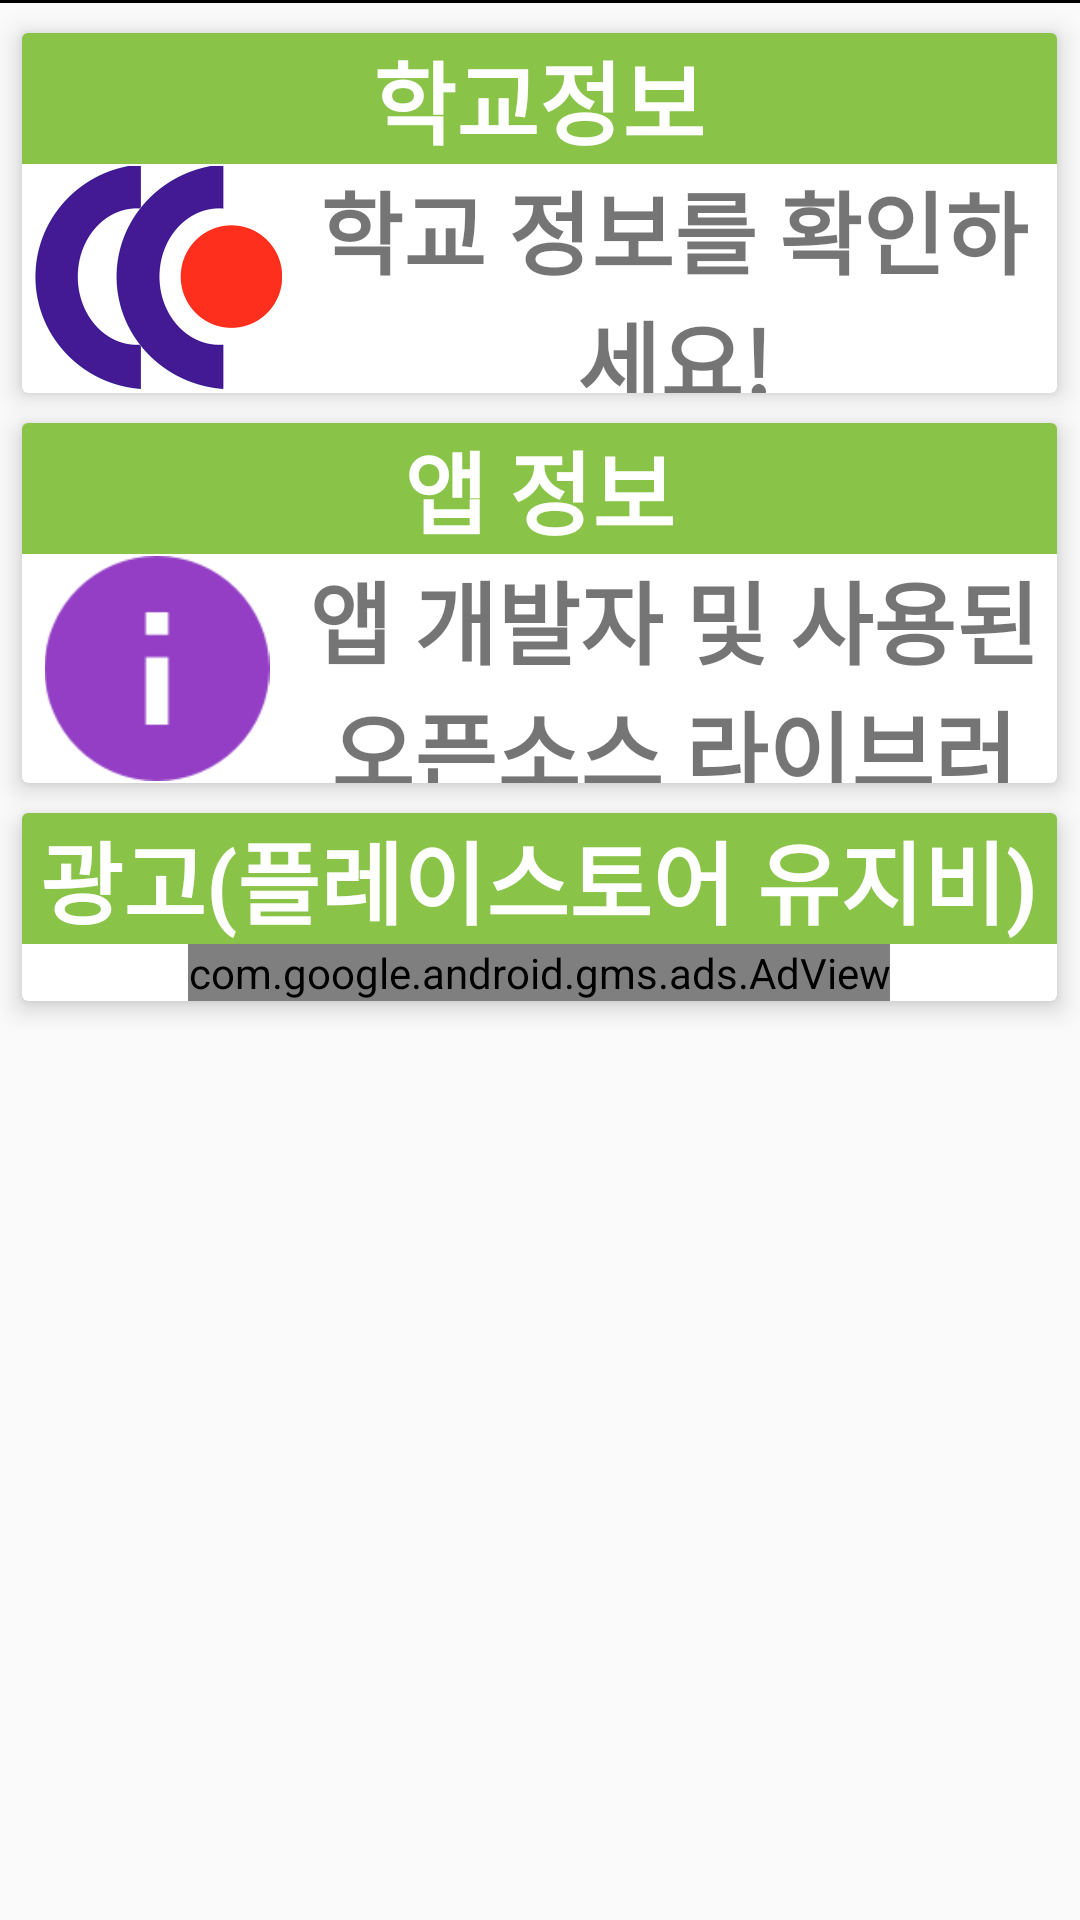

Where to tap for icons on this 1080 × 1920 app screen, as [x,y]:
info: [157,668]
